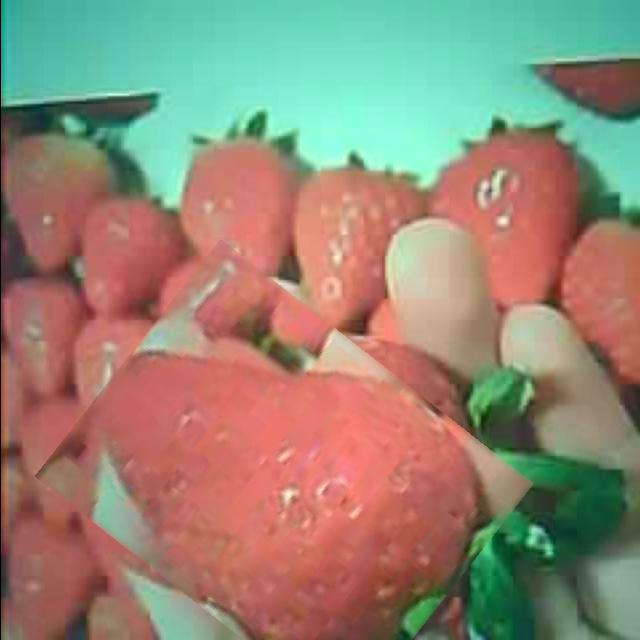strawberry: (59, 285, 507, 640)
